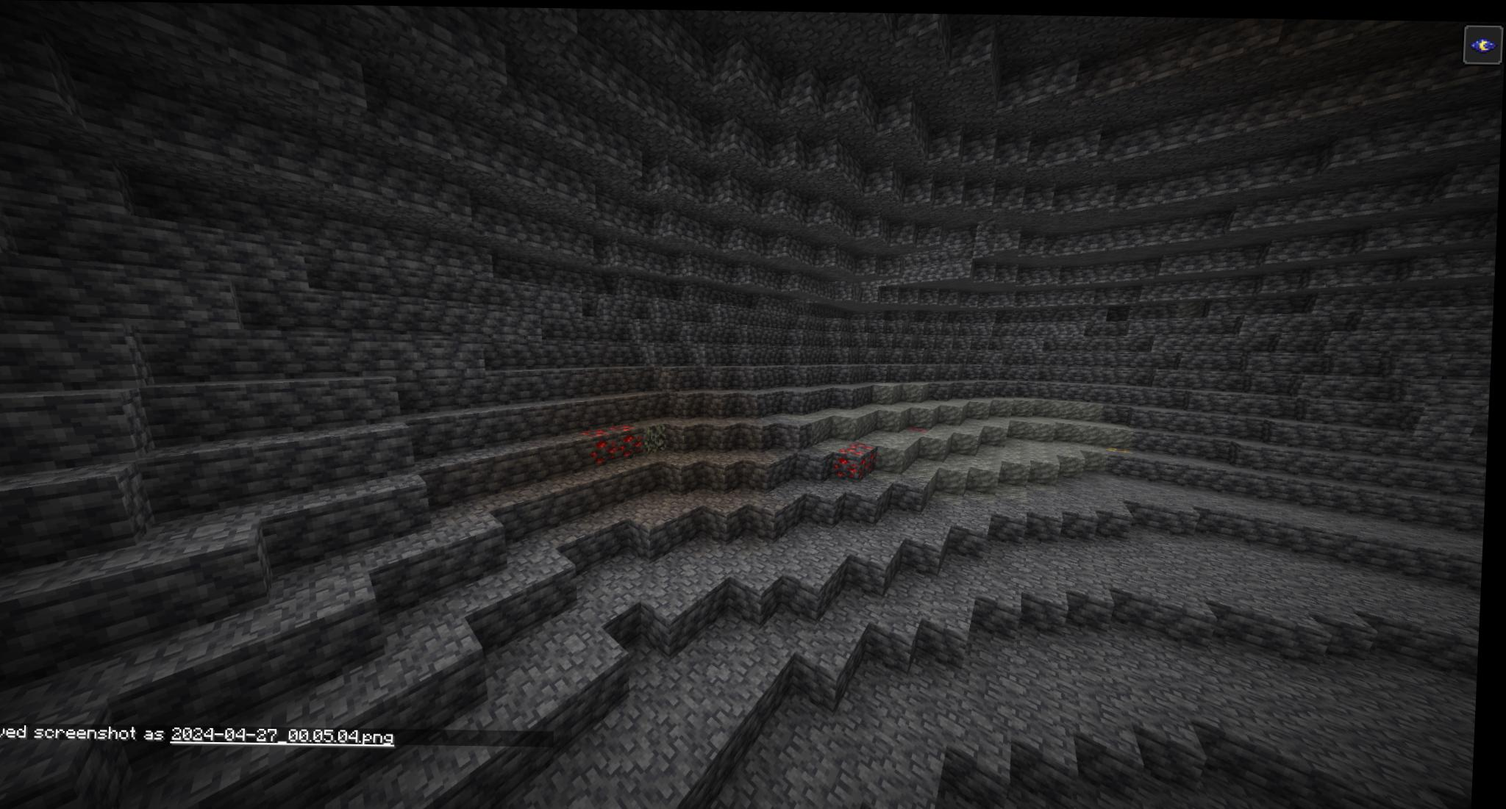redstone ore: (844, 436, 884, 480), (605, 422, 650, 460), (581, 425, 620, 457)
